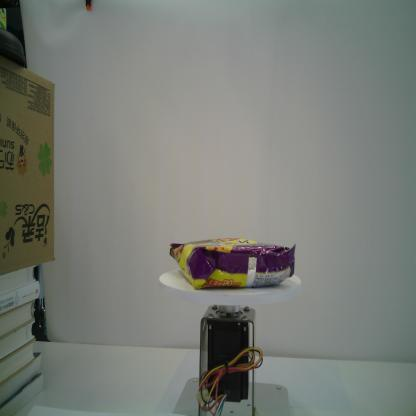Instant Noodles: (169, 236, 297, 291)
